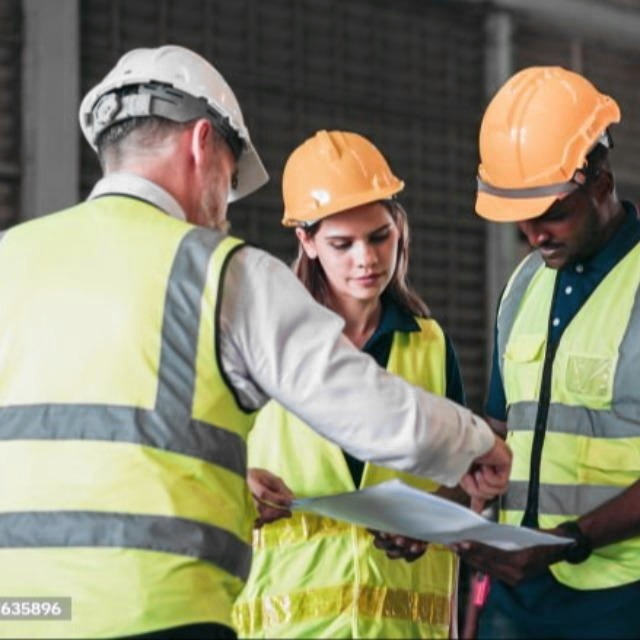Con_Casco: (80, 44, 269, 232), (479, 64, 625, 272), (284, 127, 406, 299)
Con_Chaleco: (6, 211, 253, 635), (486, 248, 640, 588)
